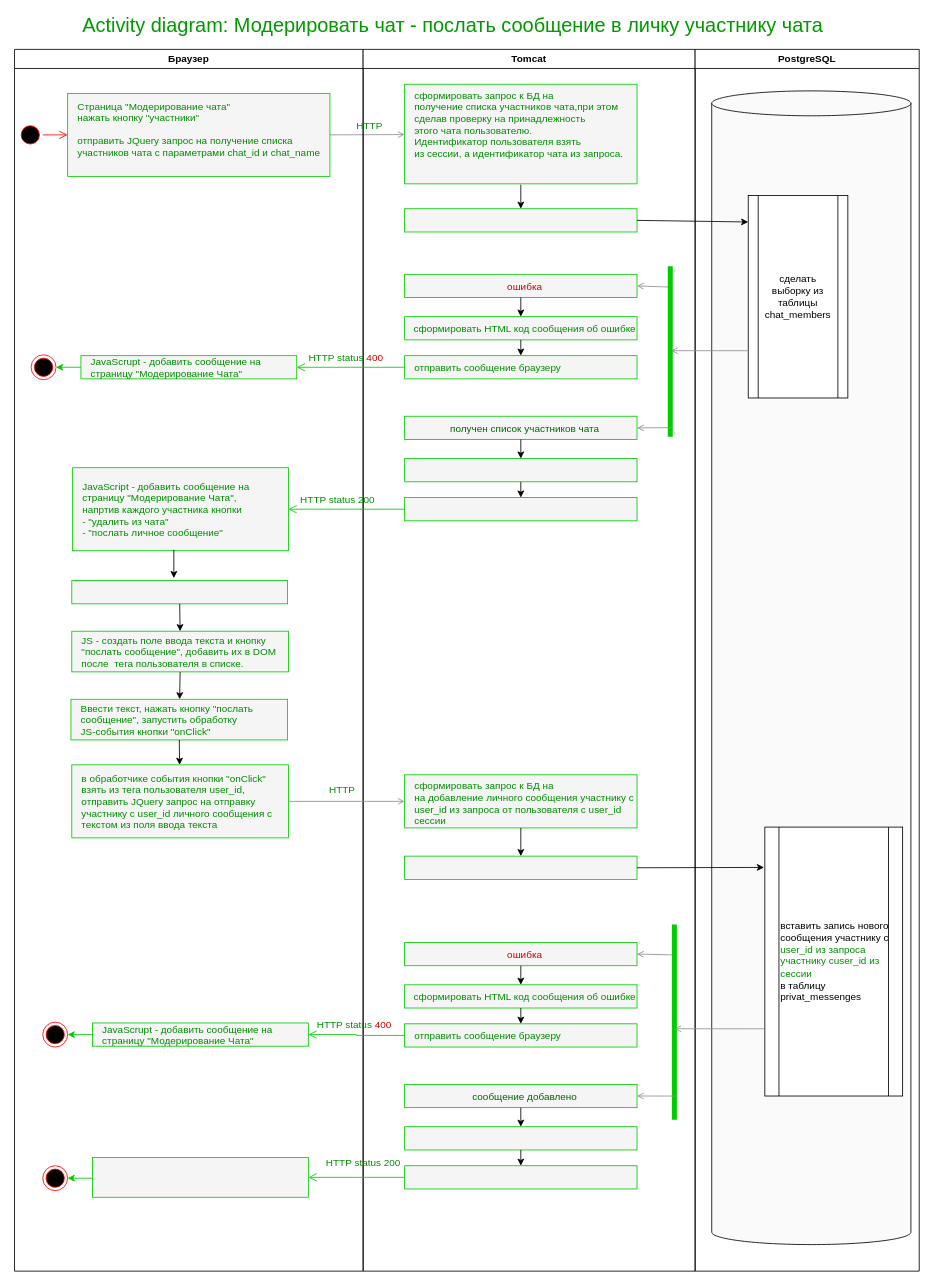
Image size: 934x1286. Some labels were removed from this diagram. Here are the shapes that lost their labels. From the top down, the centre of each, then its label:
point 520,220: запросить получение списка участников чата в БД
point 520,470: сформировать JSON массив из списка участников
point 520,509: отправить браузеру JSON массив
point 179,592: нажать кнопку "послать личное сообщение"
point 520,867: запросить INSERT в БД для нового сообщения
point 520,1138: сформировать HTML код сообщения
point 200,1177: JavaScript - добавить сообщение на страницу "Личные Сообщения",
point 520,1177: отправить браузеру сообщение
